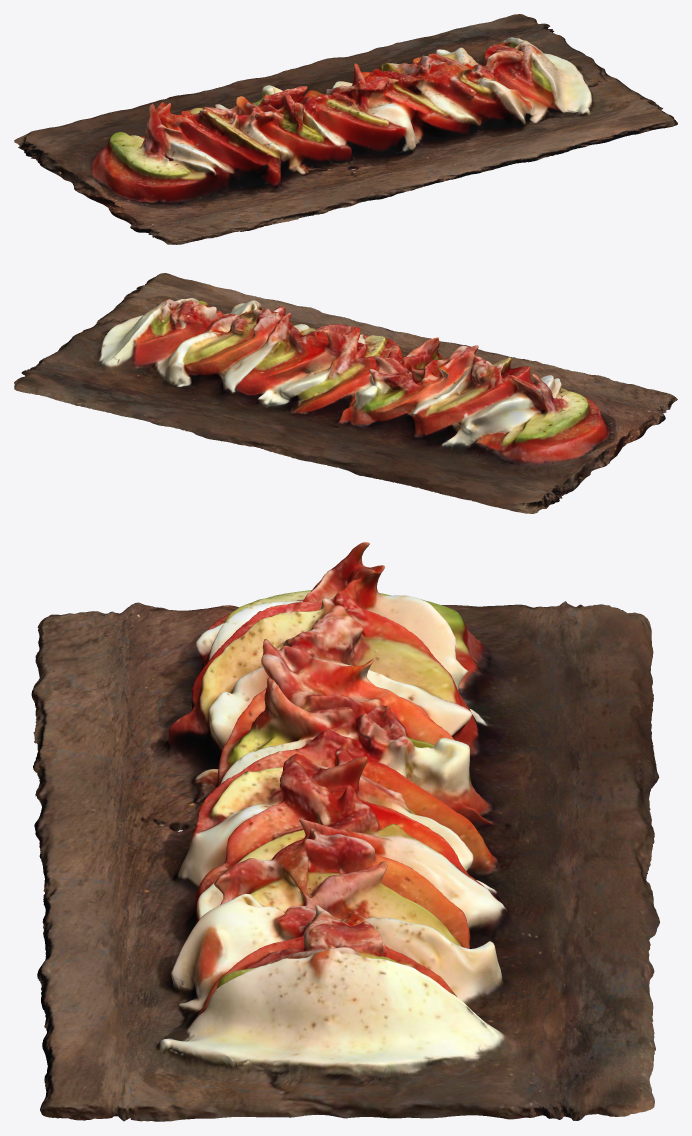
File: Plato_09.glb
The picture shows the model from 3 angles, top to bottom: view 1: azimuth 30°, elevation 25°; view 2: azimuth 150°, elevation 25°; view 3: azimuth 270°, elevation 25°; orthographic projection. The views are drawn at different scales.
Visible parts, largest first — view 1: Caprese Decimate; view 2: Caprese Decimate; view 3: Caprese Decimate.
Boxes of the visible parts, x1=… form: Caprese Decimate: x1=14, y1=14, x2=677, y2=244; Caprese Decimate: x1=14, y1=273, x2=677, y2=513; Caprese Decimate: x1=31, y1=542, x2=659, y2=1121.
Bounding box in the file's own units: 0.2877 × 0.0366 × 0.1488.
1 material, 1 textured.
